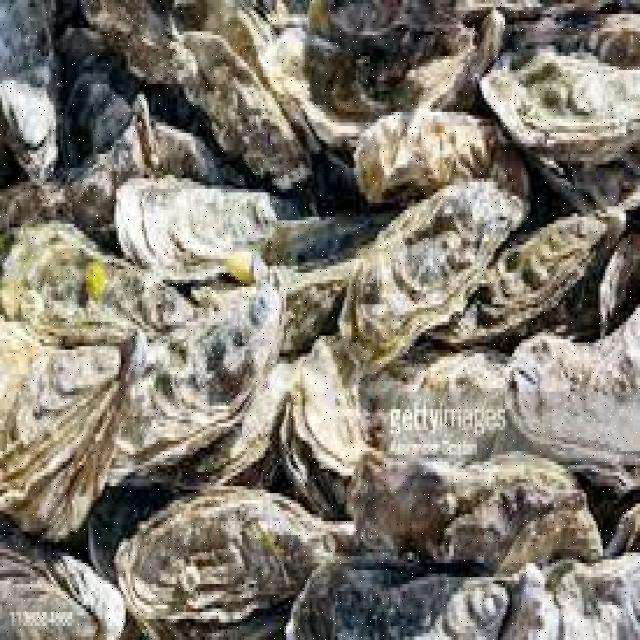Oyster-Closed: (339, 180, 525, 373), (112, 279, 284, 477), (115, 486, 335, 639), (378, 329, 562, 497), (378, 451, 601, 575), (0, 316, 121, 539), (2, 222, 194, 346), (510, 308, 639, 492), (175, 31, 311, 191), (192, 350, 308, 536), (450, 215, 606, 342), (481, 51, 639, 163), (115, 176, 276, 267), (355, 112, 495, 202), (336, 569, 509, 639), (501, 554, 639, 639), (0, 0, 60, 172), (255, 256, 382, 330), (1, 554, 98, 640), (252, 203, 370, 265), (48, 554, 132, 638), (143, 121, 227, 183)
Oyster-Open: (284, 336, 366, 518)
